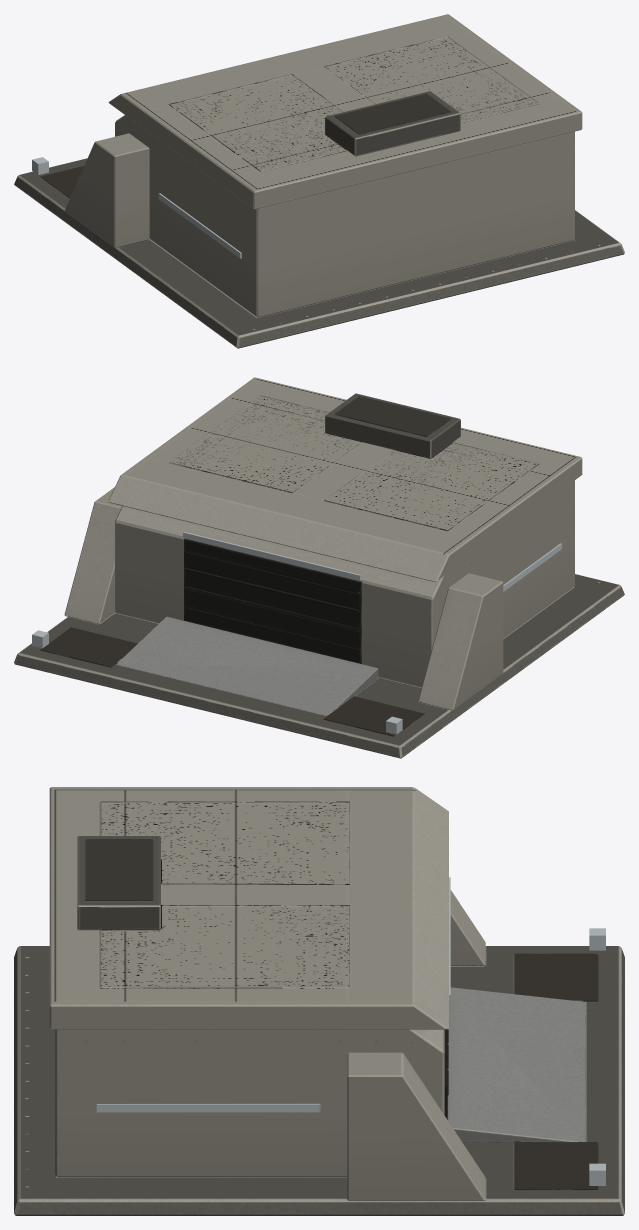
Rendered from ord_vehplant.fbx.
3 views of the same model, one above another, from view 1: azimuth 30°, elevation 25°; view 2: azimuth 150°, elevation 25°; view 3: azimuth 270°, elevation 25° (orthographic). The views are drawn at different scales.
Parts seen in each view (by area): view 1: base_bar; view 2: base_bar; view 3: base_bar.
Part boxes in pixels (x1,y1,x2,y2): base_bar: [14, 14, 624, 348]; base_bar: [14, 377, 624, 758]; base_bar: [14, 787, 624, 1215].
Size of the model in its own units: 2200 by 1064 by 2196.
Materials: 2 (2 with a texture image).
